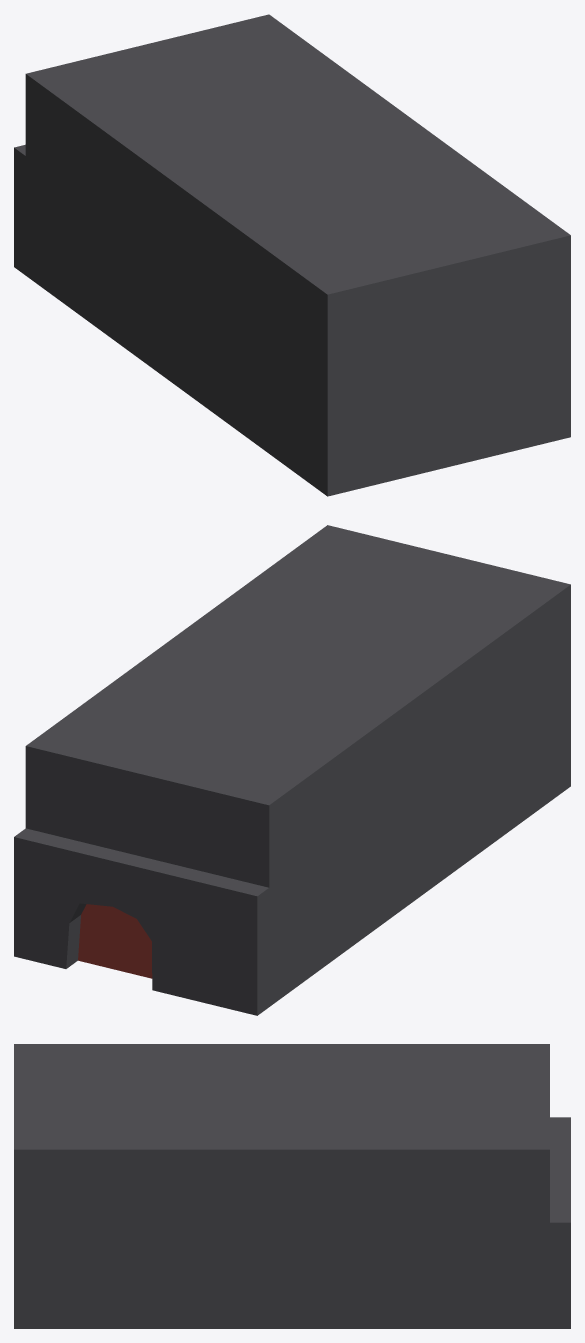
The model's file is limao.glb.
3 renders of one model, top to bottom at view 1: azimuth 30°, elevation 25°; view 2: azimuth 150°, elevation 25°; view 3: azimuth 270°, elevation 25°, orthographic. The views are drawn at different scales.
Parts seen in each view (by area): view 1: Cube.002; view 2: Cube.002; view 3: Cube.002.
Part boxes in pixels (<box>): Cube.002: <box>14,14,570,496</box>; Cube.002: <box>14,525,570,1015</box>; Cube.002: <box>14,1044,570,1328</box>.
Size of the model in its own units: 111 by 88.9 by 248.
